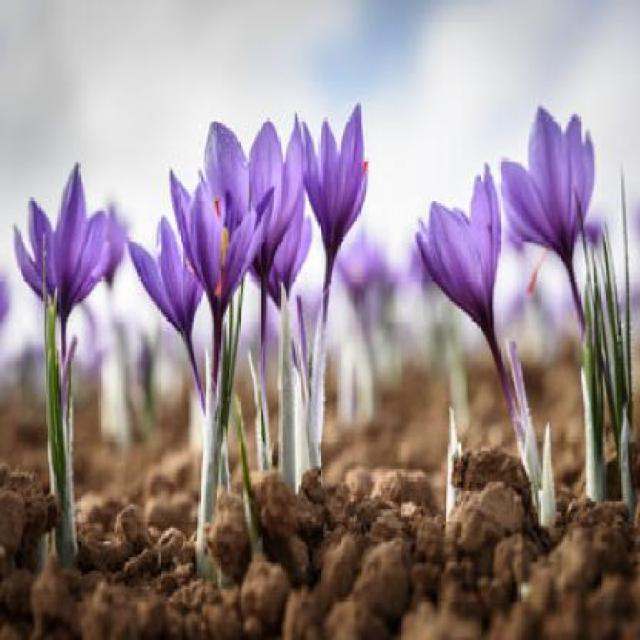Flower: (502, 96, 610, 270), (200, 109, 302, 277), (408, 156, 499, 332), (164, 156, 264, 316), (12, 162, 108, 320), (302, 97, 387, 261), (121, 214, 208, 335)
stigma: (210, 183, 242, 272)
